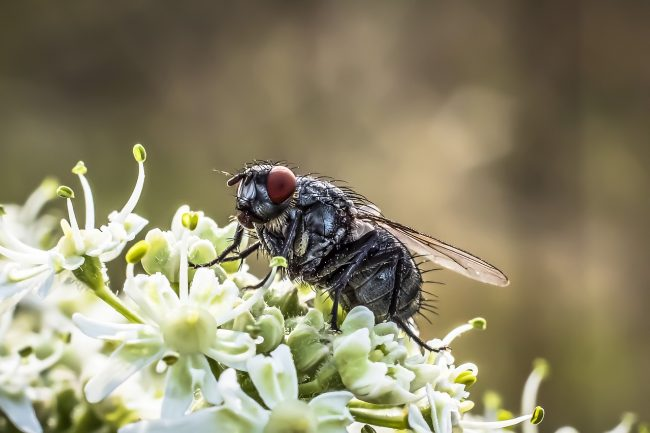fly: (185, 157, 510, 363)
